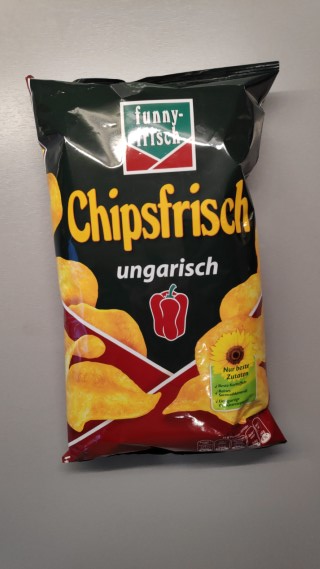chipsfrisch: (23, 58, 290, 465)
